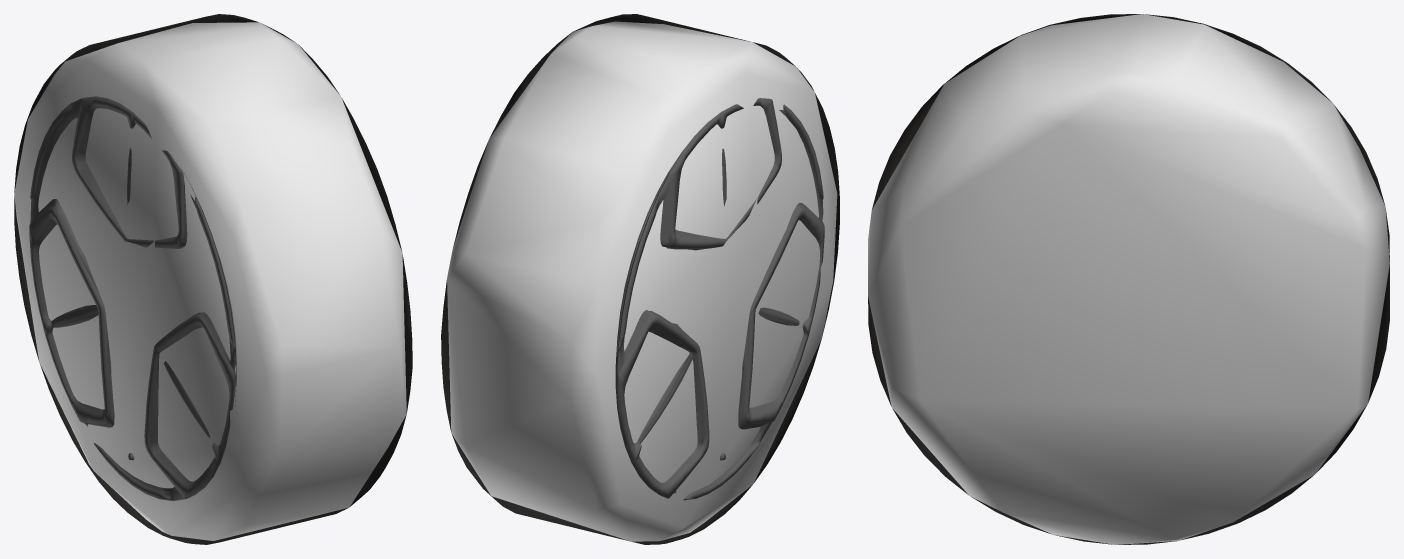
3 views of the same model, side by side, from view 1: azimuth 30°, elevation 25°; view 2: azimuth 150°, elevation 25°; view 3: azimuth 270°, elevation 25° (orthographic).
Visible parts, largest first — view 1: wheel_eclipse_front_01_col, wheel_eclipse_front_01; view 2: wheel_eclipse_front_01_col, wheel_eclipse_front_01; view 3: wheel_eclipse_front_01_col, wheel_eclipse_front_01.
Part boxes in pixels (x1,y1,x2,y2): wheel_eclipse_front_01_col: (14,22,406,540); wheel_eclipse_front_01: (14,14,412,544); wheel_eclipse_front_01_col: (447,21,837,541); wheel_eclipse_front_01: (441,14,839,544); wheel_eclipse_front_01_col: (868,14,1389,544); wheel_eclipse_front_01: (868,14,1389,544).
Size of the model in its own units: 0.2687 by 0.7068 by 0.7067.
4 materials, 3 textured.
